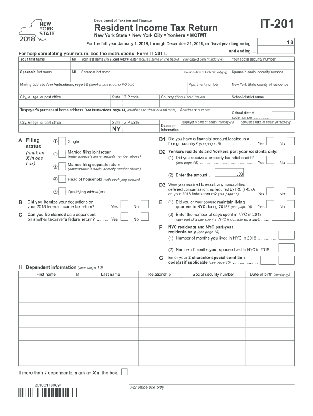checkbox: (285, 135, 296, 146), (285, 154, 296, 165), (285, 198, 296, 209), (57, 135, 67, 146), (57, 147, 67, 158), (57, 160, 67, 171), (57, 173, 67, 184), (140, 210, 150, 221), (119, 210, 129, 221), (264, 154, 275, 164), (286, 185, 296, 196), (264, 186, 275, 196), (57, 186, 67, 196), (119, 198, 129, 208), (140, 198, 150, 208), (265, 135, 275, 145), (265, 198, 275, 208), (119, 366, 129, 376)
textbox: (17, 110, 179, 121), (17, 85, 188, 95), (178, 287, 248, 305), (178, 350, 248, 368), (179, 275, 248, 292), (178, 299, 247, 316), (178, 313, 247, 330), (178, 325, 247, 342), (178, 338, 247, 355), (78, 60, 182, 70), (78, 72, 182, 82), (16, 300, 76, 317), (16, 312, 76, 329), (16, 325, 76, 342), (16, 338, 76, 355), (16, 351, 76, 368), (81, 275, 141, 292), (80, 287, 140, 304), (81, 325, 141, 342), (17, 275, 76, 292), (80, 301, 140, 317), (81, 313, 141, 329), (81, 338, 141, 354), (80, 350, 140, 366), (17, 98, 112, 108), (17, 288, 76, 304), (243, 275, 297, 292), (243, 287, 297, 304), (243, 351, 296, 368), (244, 300, 297, 316), (244, 313, 297, 329), (243, 326, 296, 342), (242, 339, 295, 355), (17, 123, 111, 132), (228, 59, 295, 71), (136, 275, 183, 292), (135, 300, 182, 317), (136, 312, 183, 329), (136, 326, 183, 343), (136, 338, 183, 355), (136, 351, 183, 368), (136, 288, 183, 304), (228, 85, 295, 96), (158, 98, 231, 108), (229, 72, 295, 83), (228, 98, 295, 108), (17, 72, 72, 83), (176, 110, 231, 121), (179, 72, 232, 83), (239, 123, 292, 134), (17, 60, 72, 70), (179, 60, 232, 70), (179, 124, 232, 134), (185, 85, 232, 95), (120, 97, 161, 108), (122, 123, 161, 134), (256, 37, 296, 47), (213, 166, 246, 178), (256, 44, 295, 54), (270, 110, 296, 121), (270, 210, 296, 221), (258, 254, 277, 266), (277, 254, 296, 266), (277, 230, 296, 241), (277, 242, 296, 253), (71, 275, 84, 291), (72, 287, 85, 303), (71, 301, 84, 317), (72, 313, 85, 329), (72, 325, 85, 341), (71, 338, 84, 354), (71, 351, 84, 367), (68, 60, 82, 71), (68, 72, 82, 83), (109, 98, 124, 108), (109, 124, 124, 133)
